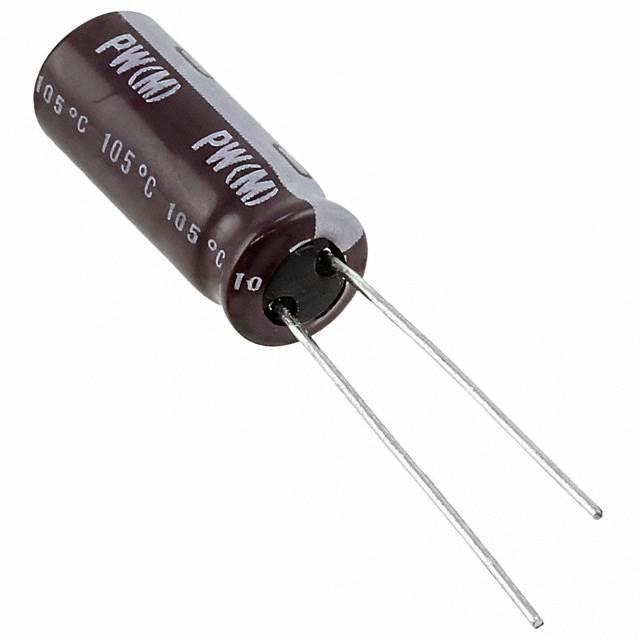Capacitor: (34, 11, 606, 631)
